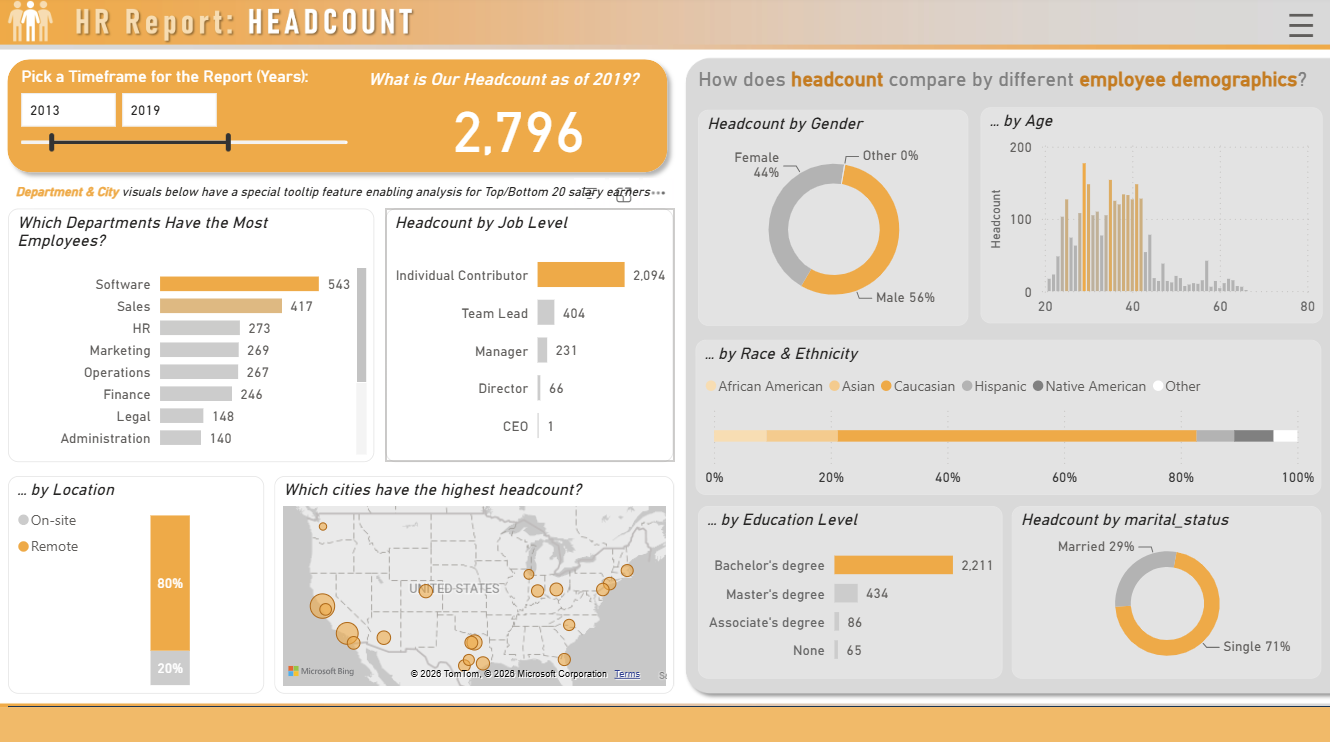

What the dashboard file says about the page in this screenshot:
{"tool":"powerbi","page":{"name":"Headcount","canvas":[1280,720],"ordinal":1},"visuals":[{"type":"shape","box":[0,51.6,650.7,126.4],"z":0},{"type":"card","fields":{"Values":["_Measures.Headcount"]},"box":[349.9,70,298.3,88.4],"z":1000},{"type":"slicer","fields":{"Values":["Date.Year"]},"box":[9.8,63.8,338.8,108],"z":2000},{"type":"clusteredBarChart","title":"Which Departments Have the Most Employees?","fields":{"Category":["department_dim.department","department_dim.sub-department"],"Y":["_Measures.Headcount"]},"box":[9.8,203.8,351.1,243.1],"z":3000},{"type":"clusteredBarChart","title":"Headcount by Job Level","fields":{"Category":["job_level_dim.job_level"],"Y":["_Measures.Headcount"]},"box":[372,203.8,276.2,243.1],"z":4000},{"type":"hundredPercentStackedColumnChart","title":"... by Location","fields":{"Series":["location_dim.location"],"Y":["_Measures.Headcount"]},"box":[9.8,460.4,245.5,208.7],"z":5000},{"type":"map","title":"Which cities have the highest headcount?","fields":{"Category":["location_dim.location_city"],"Size":["_Measures.Headcount"]},"box":[265.2,460.4,383,208.7],"z":6000},{"type":"donutChart","title":"Headcount by Gender","fields":{"Category":["demographic_dim.gender"],"Y":["_Measures.Headcount"]},"box":[671.5,109.3,259,207.5],"z":7000},{"type":"hundredPercentStackedBarChart","title":"... by Race & Ethnicity","fields":{"Series":["demographic_dim.race"],"Y":["_Measures.Headcount"]},"box":[669.1,329,600.3,148.5],"z":8000},{"type":"clusteredColumnChart","title":"... by Age","fields":{"Category":["demographic_dim.age"],"Y":["_Measures.Headcount"]},"box":[941.6,106.8,327.8,207.5],"z":9000},{"type":"clusteredBarChart","title":"... by Education Level","fields":{"Category":["education_dim.education"],"Y":["_Measures.Headcount"]},"box":[671.8,488.6,292.2,165.7],"z":10000},{"type":"donutChart","fields":{"Category":["marital_dim.marital_status"],"Y":["_Measures.Headcount"]},"box":[971.6,488.6,296.9,165.4],"z":11000},{"type":"textbox","box":[666.6,63.8,597.9,49.1],"z":12000},{"type":"actionButton","box":[1219.1,0,61.4,51.6],"z":13000},{"type":"group","id":"g1","title":"Slicer Panel","box":[959.9,43.7,321.4,637.1],"z":14000},{"type":"textbox","box":[12.3,173.1,627.3,36.8],"z":15000},{"type":"shape","box":[10.1,681,1271.1,37.5],"z":16000},{"type":"shape","box":[0,682.4,1279.7,37.5],"z":17000}]}

Visuals, with their boxes in screenshot pixels (x1, y1, x2, y2), scaled from the page's 1280x720 canvas onto the 1330x742 screenshot:
shape: crop(0, 53, 676, 183)
card - _Measures.Headcount: crop(364, 72, 674, 163)
slicer - Date.Year: crop(10, 66, 362, 177)
"Which Departments Have the Most Employees?" clusteredBarChart: crop(10, 210, 375, 461)
"Headcount by Job Level" clusteredBarChart: crop(387, 210, 674, 461)
"... by Location" hundredPercentStackedColumnChart: crop(10, 474, 265, 690)
"Which cities have the highest headcount?" map: crop(276, 474, 674, 690)
"Headcount by Gender" donutChart: crop(698, 113, 967, 326)
"... by Race & Ethnicity" hundredPercentStackedBarChart: crop(695, 339, 1319, 492)
"... by Age" clusteredColumnChart: crop(978, 110, 1319, 324)
"... by Education Level" clusteredBarChart: crop(698, 504, 1002, 674)
donutChart - marital_dim.marital_status x _Measures.Headcount: crop(1010, 504, 1318, 674)
textbox: crop(693, 66, 1314, 116)
actionButton: crop(1267, 0, 1329, 53)
"Slicer Panel" group: crop(997, 45, 1329, 702)
textbox: crop(13, 178, 665, 216)
shape: crop(10, 702, 1329, 740)
shape: crop(0, 703, 1329, 741)
